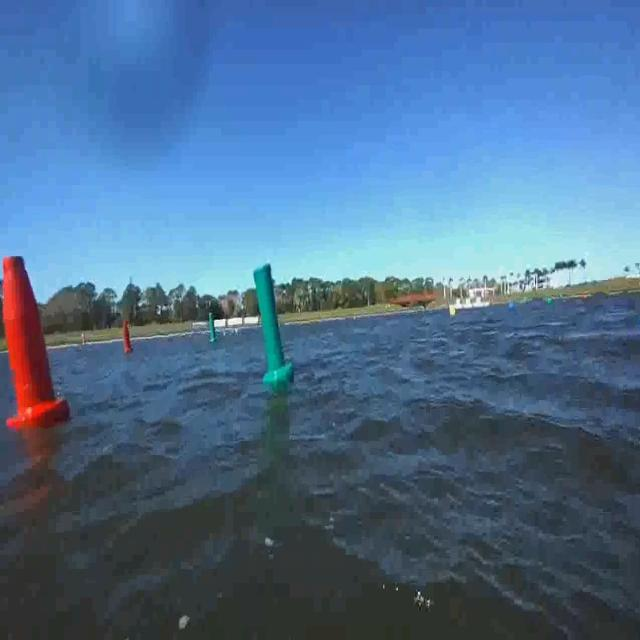blue-buoy: (510, 301, 518, 314)
green-column-buoy: (253, 260, 296, 384), (208, 316, 218, 346)
red-column-buoy: (1, 255, 69, 429), (120, 322, 132, 354)
yellow-buoy: (450, 304, 458, 319)
